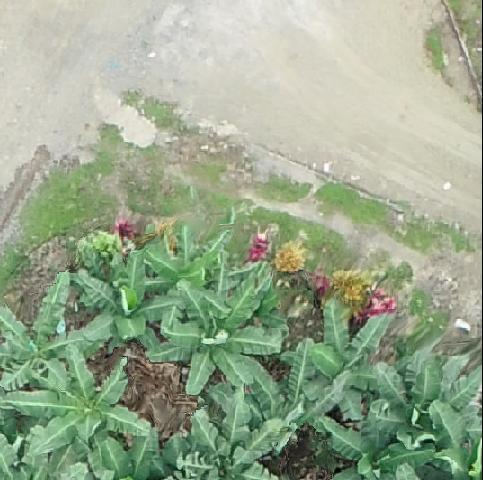Banana-plant: (0, 359, 151, 465), (143, 271, 276, 381), (168, 397, 288, 480), (293, 291, 383, 401), (0, 275, 83, 394), (380, 351, 483, 440), (72, 255, 156, 349), (325, 408, 433, 480), (132, 223, 236, 297)
